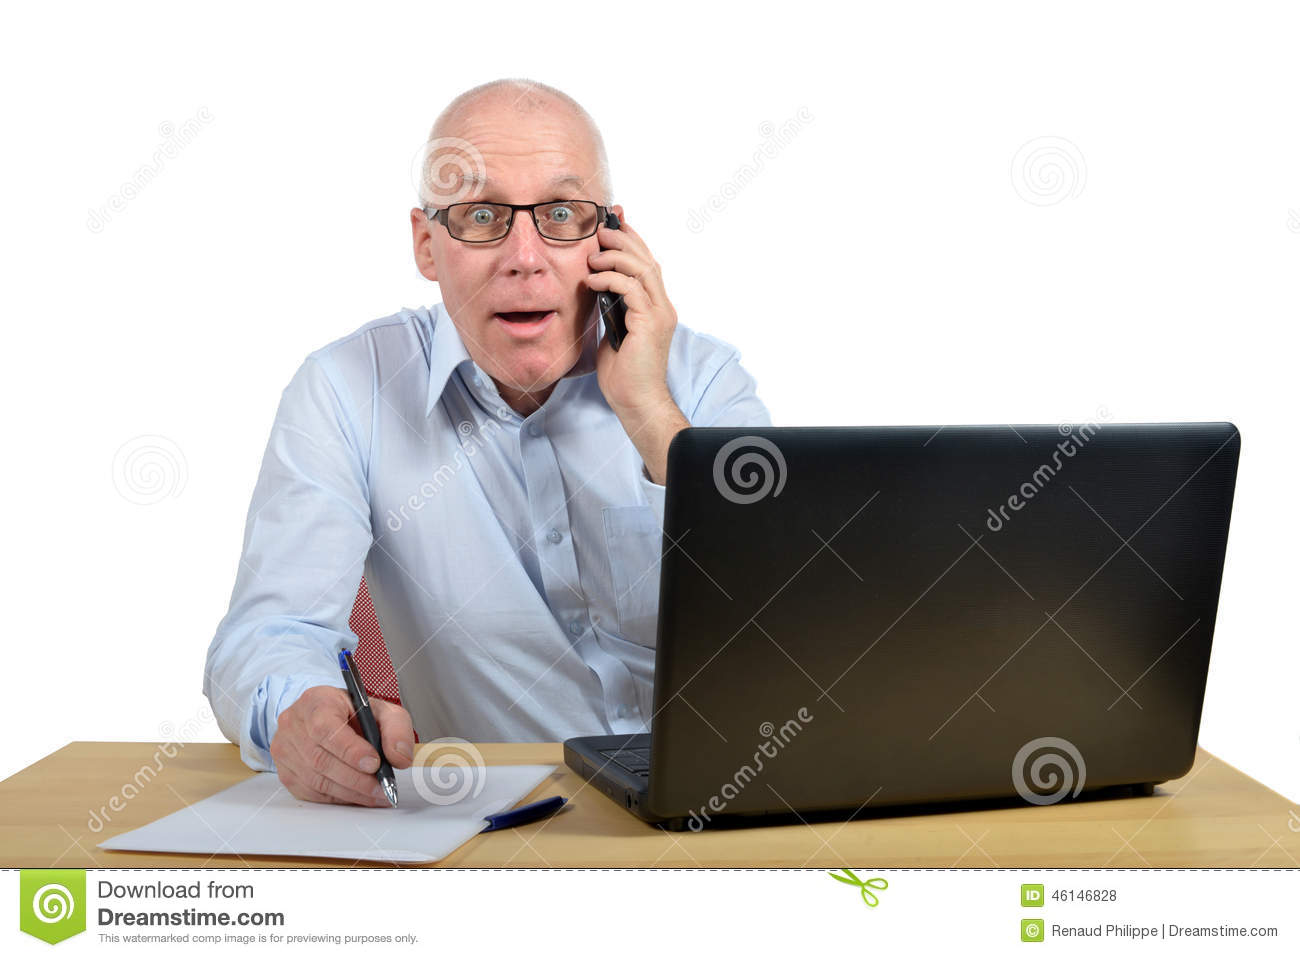phone: (601, 201, 628, 356)
talk: (443, 156, 675, 436)
